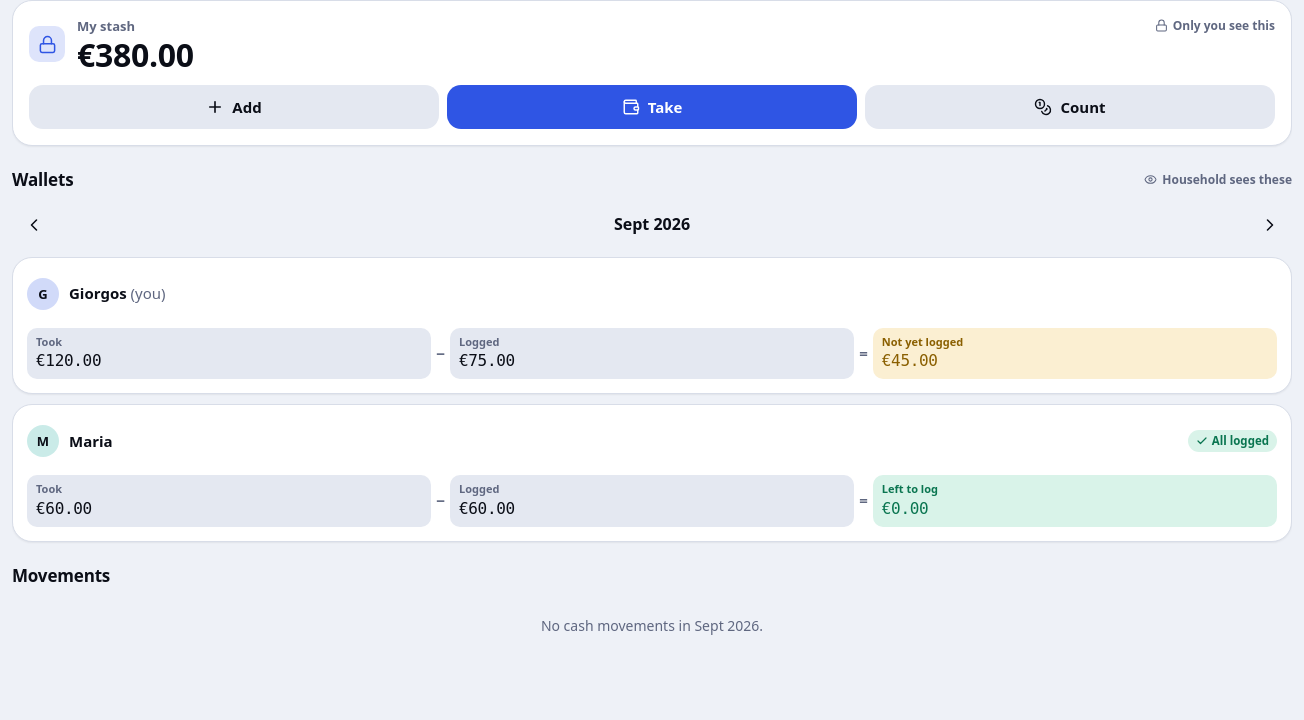
Test: I5: a past month's card has no Log it and no Still have (they write into this month)
Expected: the button "Log it" is not shown
Expected: the button "Still have" is not shown
Click the button named "Next month".
click(1270, 225)  # box [1248, 203, 1292, 247]
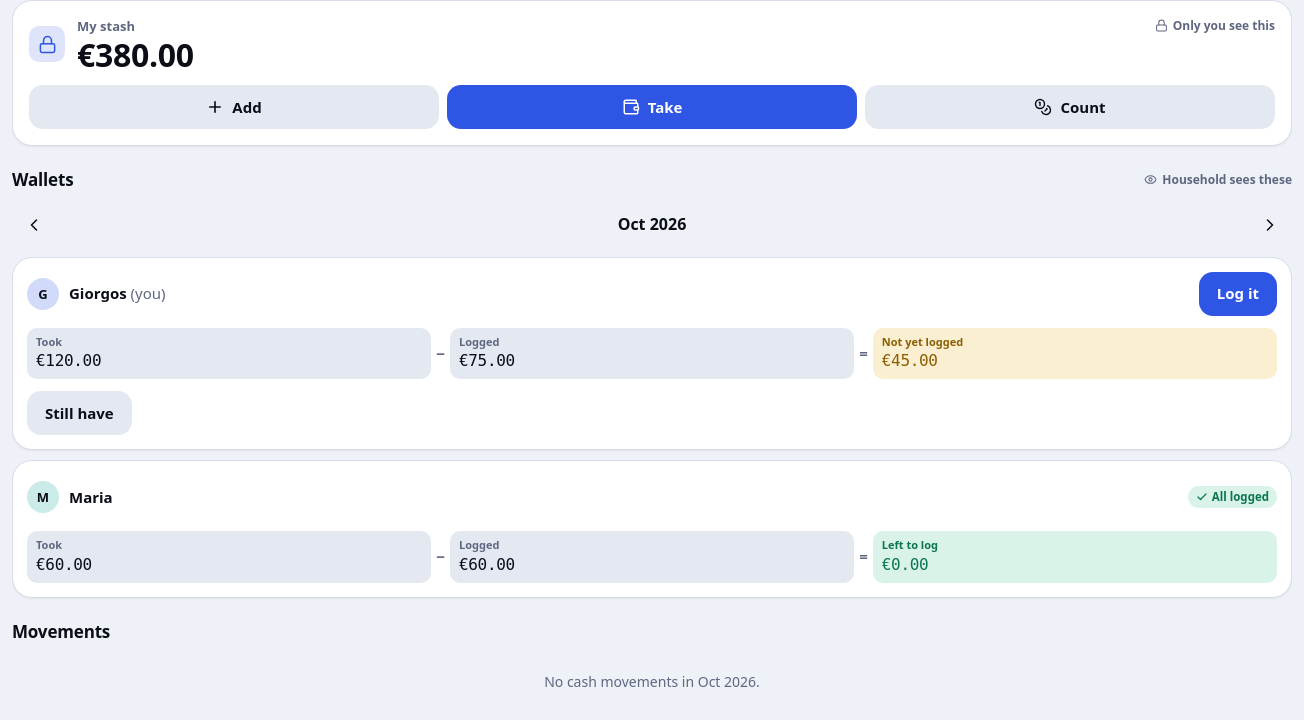
Now the button "Log it" is shown, box [1199, 272, 1277, 316]
Now the button "Still have" is shown, box [27, 392, 132, 436]
